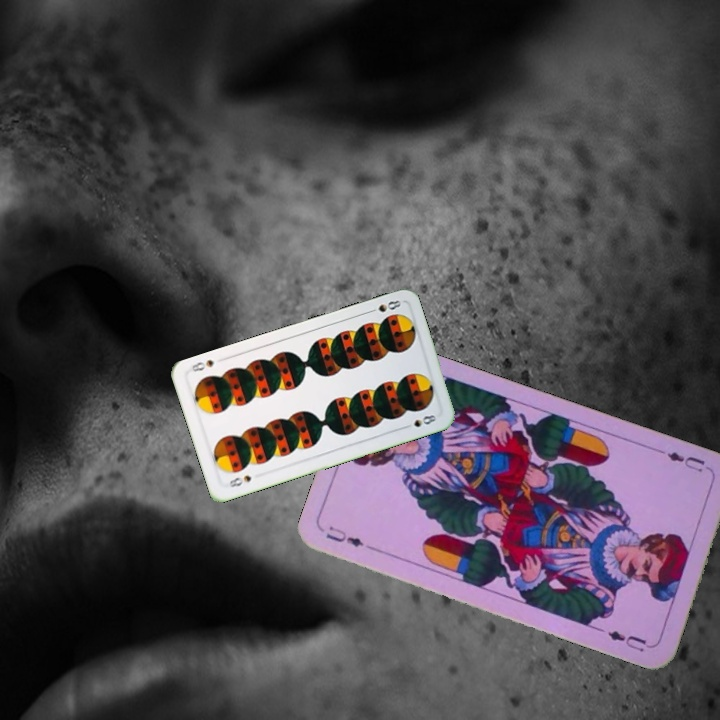EU: (322, 522, 378, 553), (656, 446, 708, 475)
S8: (364, 296, 404, 316), (225, 471, 254, 490)
